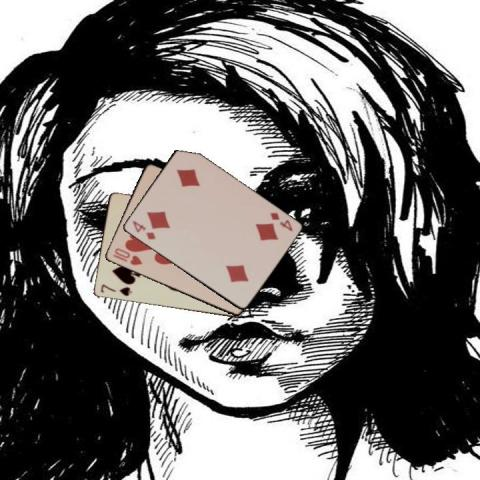10h: (109, 245, 144, 267)
4d: (129, 218, 157, 242), (267, 209, 294, 233)
7s: (98, 282, 134, 298)
